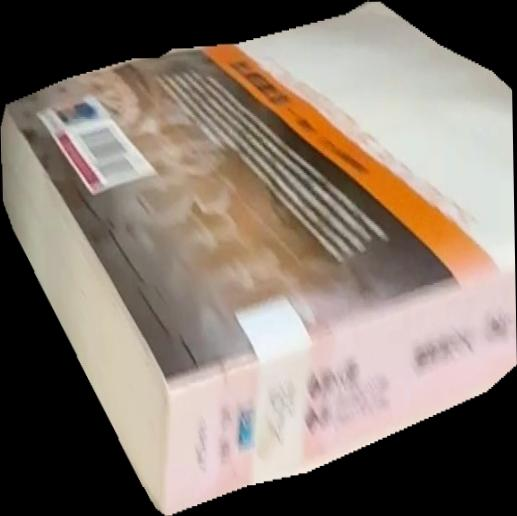flat: (1, 1, 517, 516)
